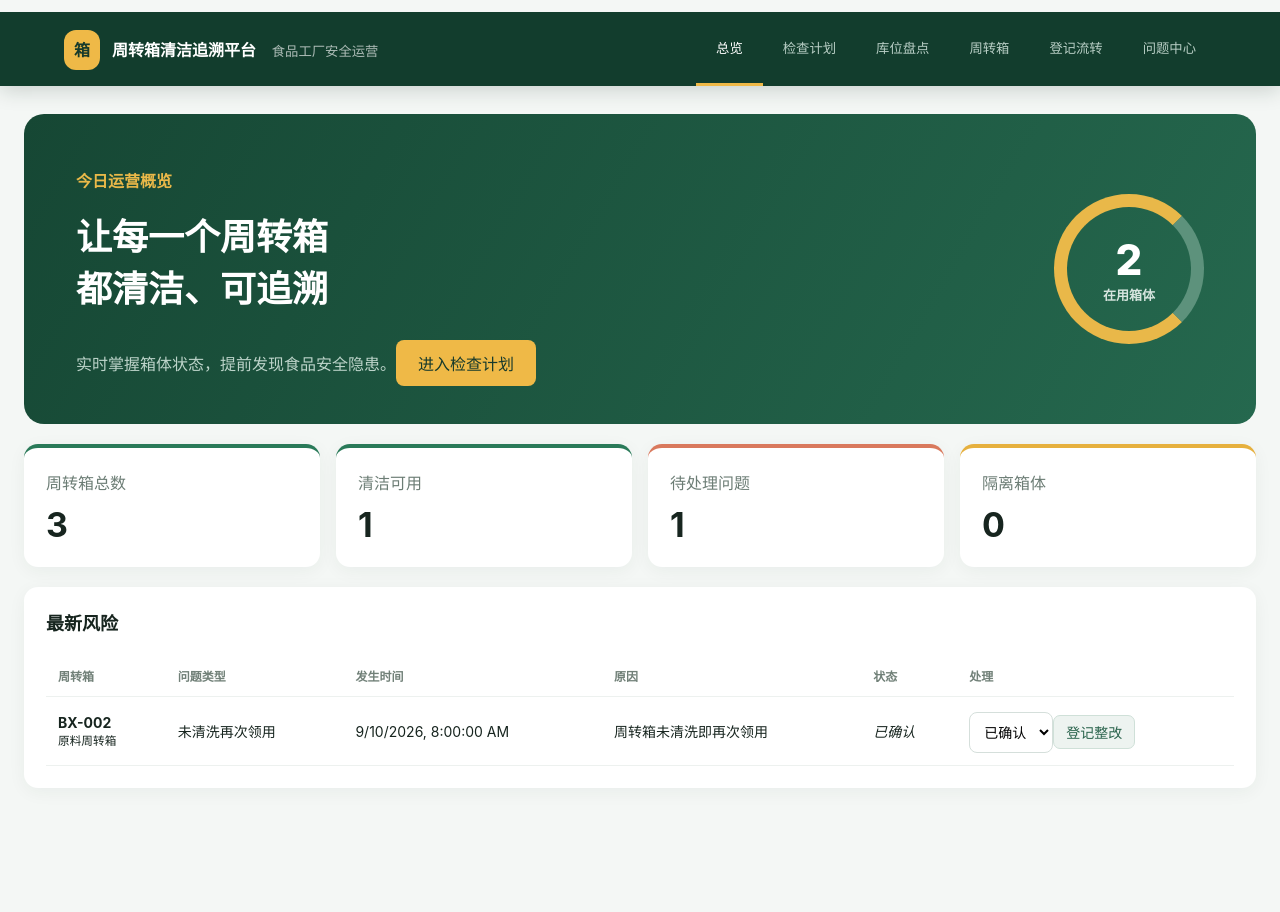
register rectification prefills wash, submits issue_id and returns to issue center closed
Expected: the text "周转箱总数" is shown, [46, 473, 126, 493]
Click the button "问题中心".
click(1169, 49)  # box [1123, 12, 1216, 86]
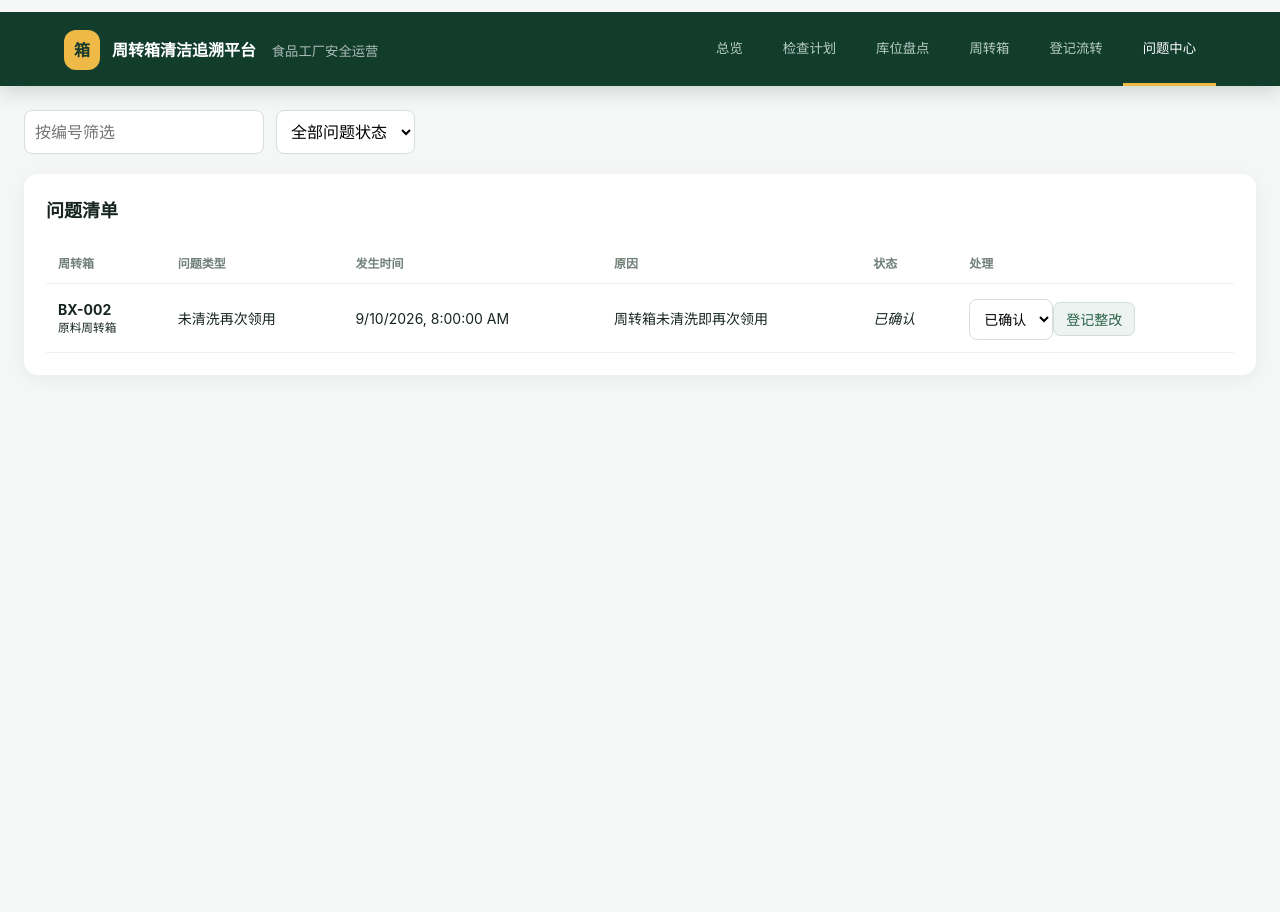
Expected: the text "BX-002" is shown, [58, 301, 111, 318]
Click the button "登记整改".
click(1094, 319)  # box [1053, 302, 1135, 336]
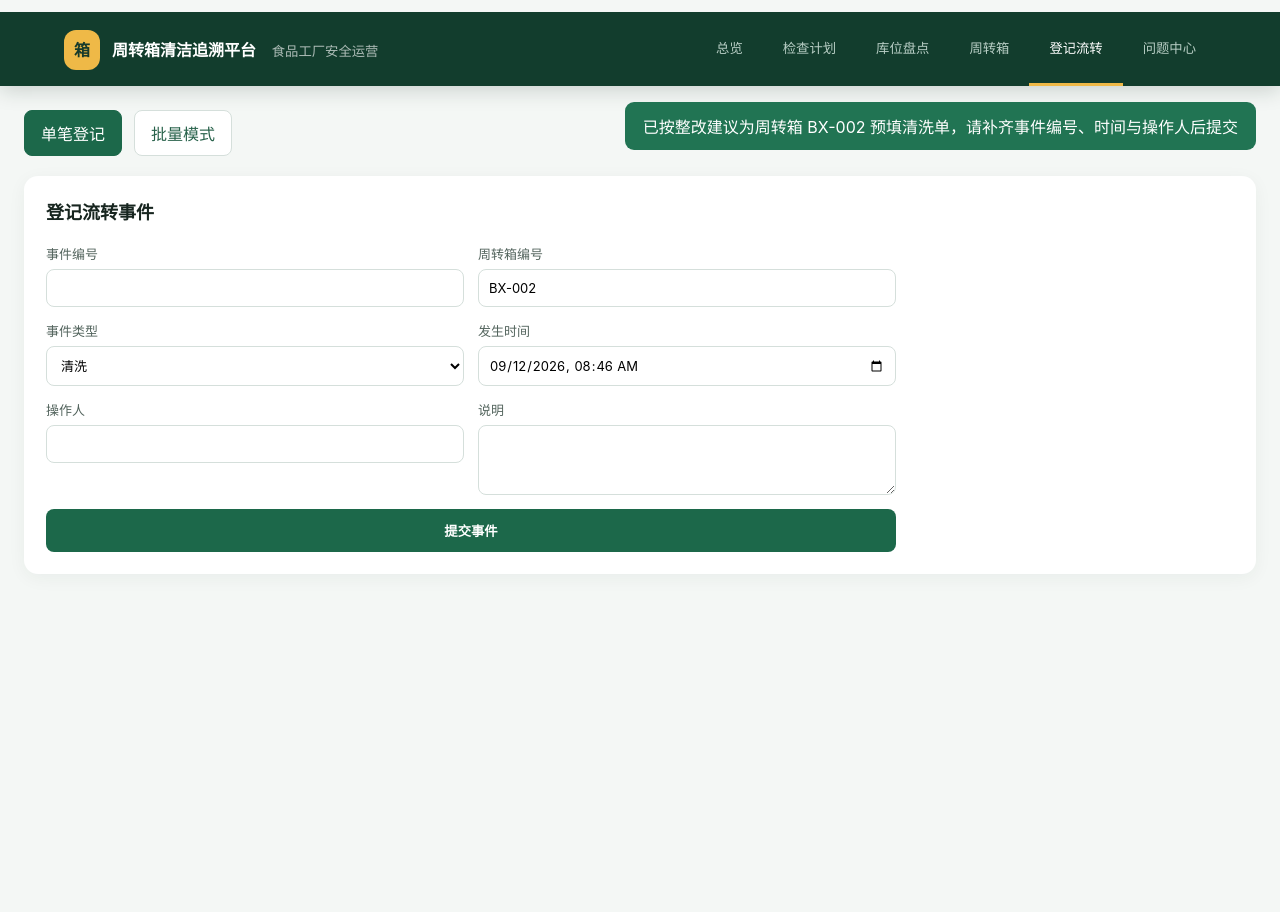
Expected: the text "已按整改建议为周转箱 BX-002 预填清洗单，请补齐事件编号、时间与操作人后提交" is shown, [625, 102, 1256, 150]
Expected: the field labelled "周转箱编号" holds "BX-002", [478, 269, 896, 307]
Expected: the dropdown labelled "事件类型" shows "清洗", [46, 346, 464, 386]
Type "EV-W-1" into the field labelled "事件编号".
click(255, 288); type("EV-W-1")  # box [46, 269, 464, 307]
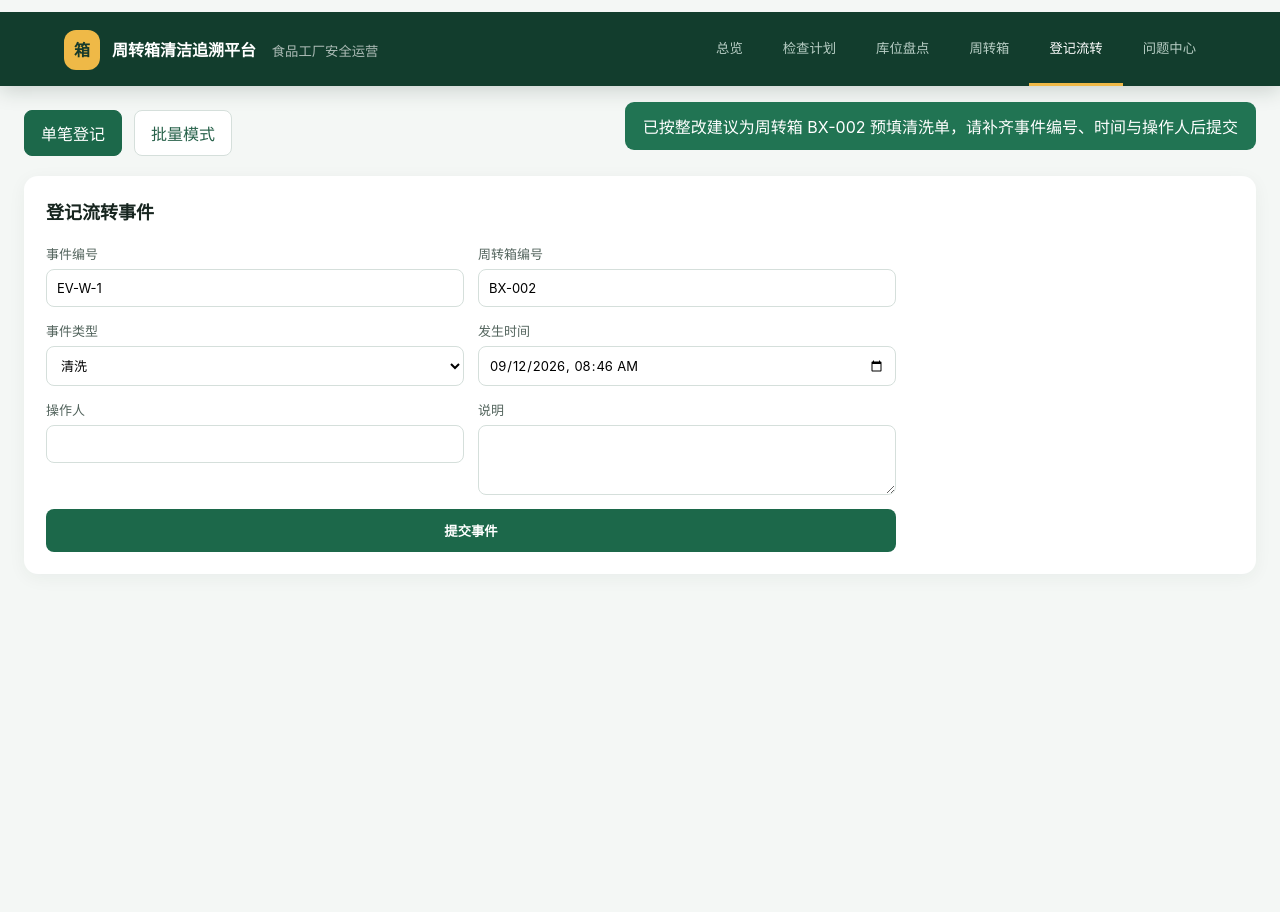
Replace the text in the field labelled "发生时间" with "2026-09-11T10:30" at (687, 366), box [478, 346, 896, 386]
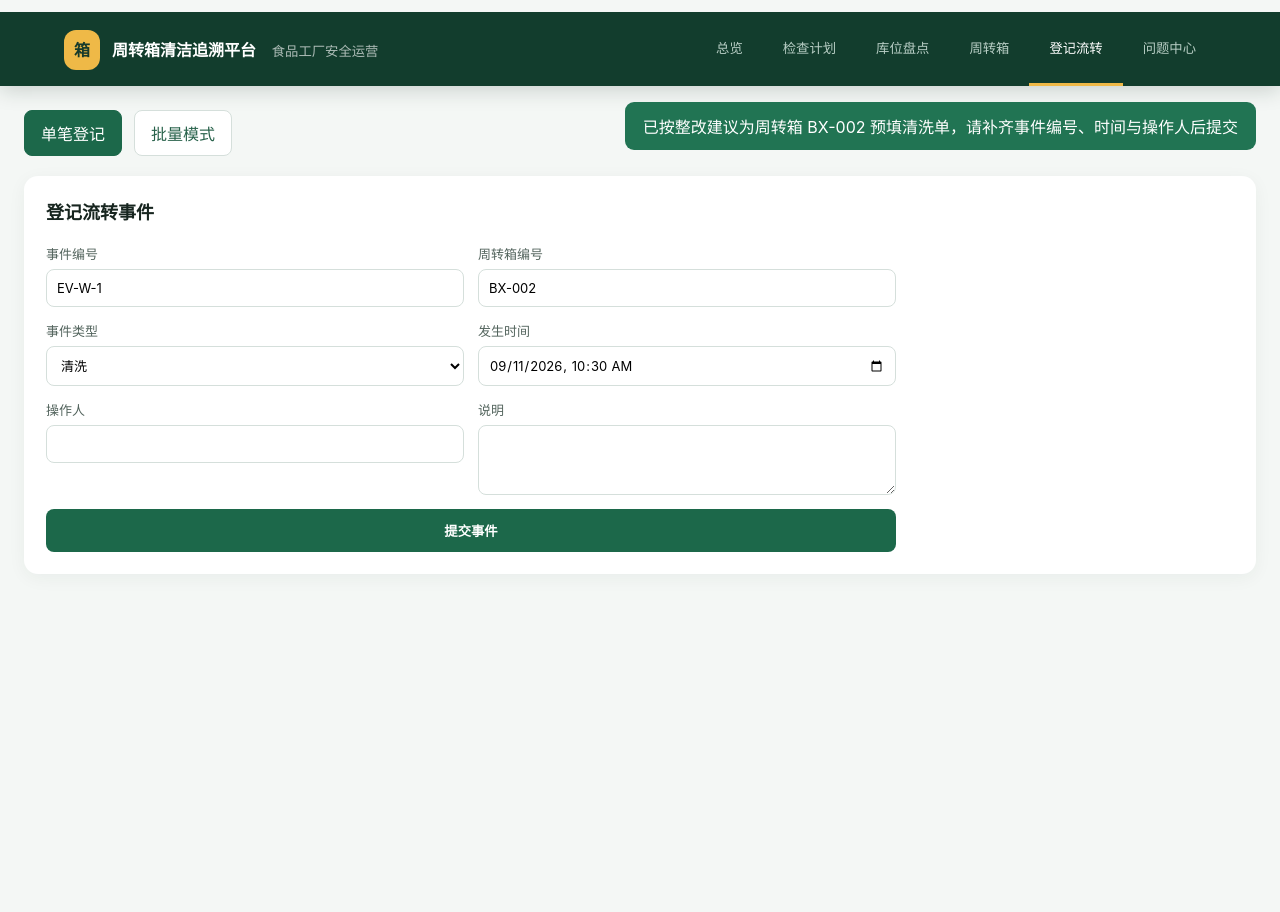
Type "王工" into the field labelled "操作人".
click(255, 444); type("王工")  # box [46, 425, 464, 463]
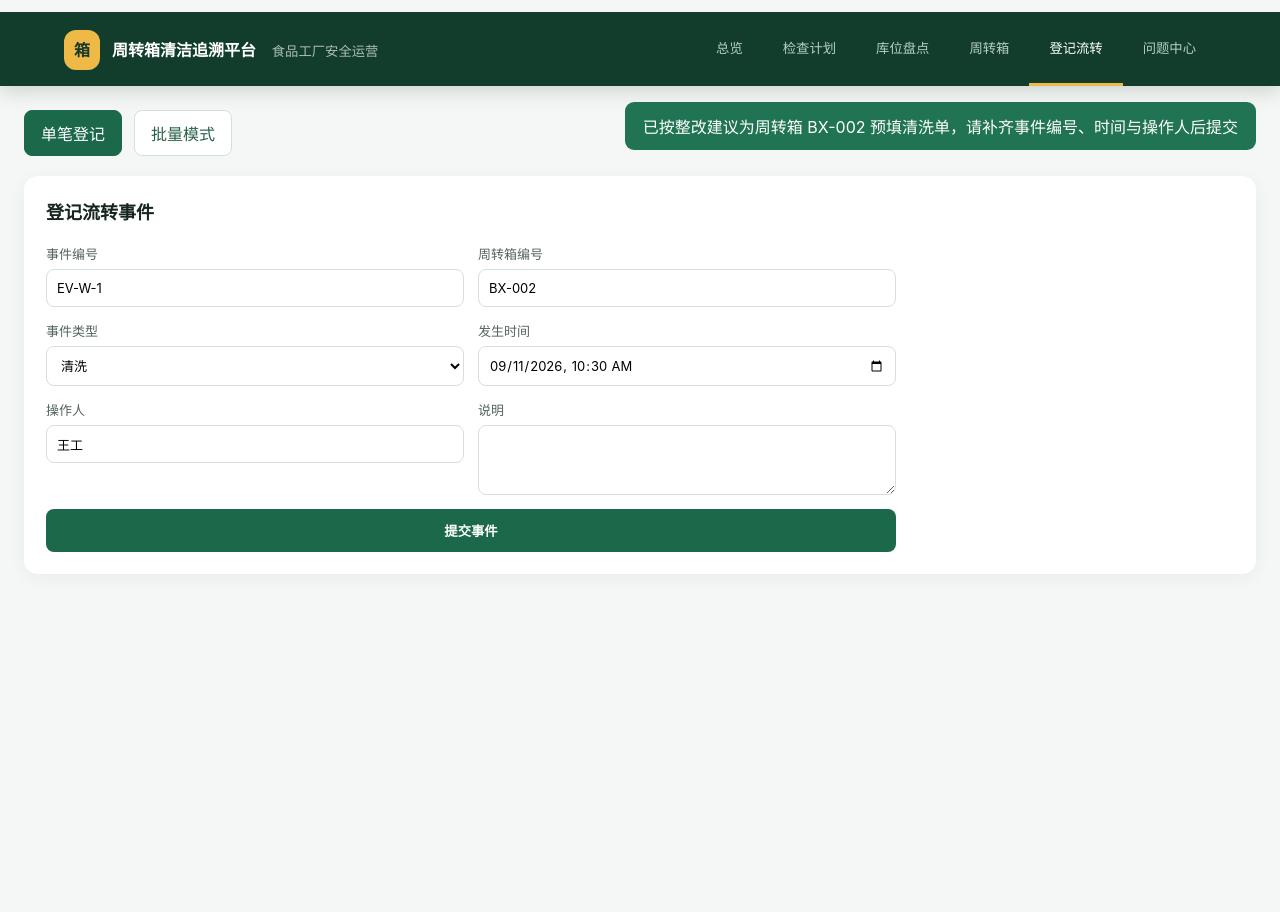
Click the button "提交事件".
click(471, 530)  # box [46, 509, 896, 552]
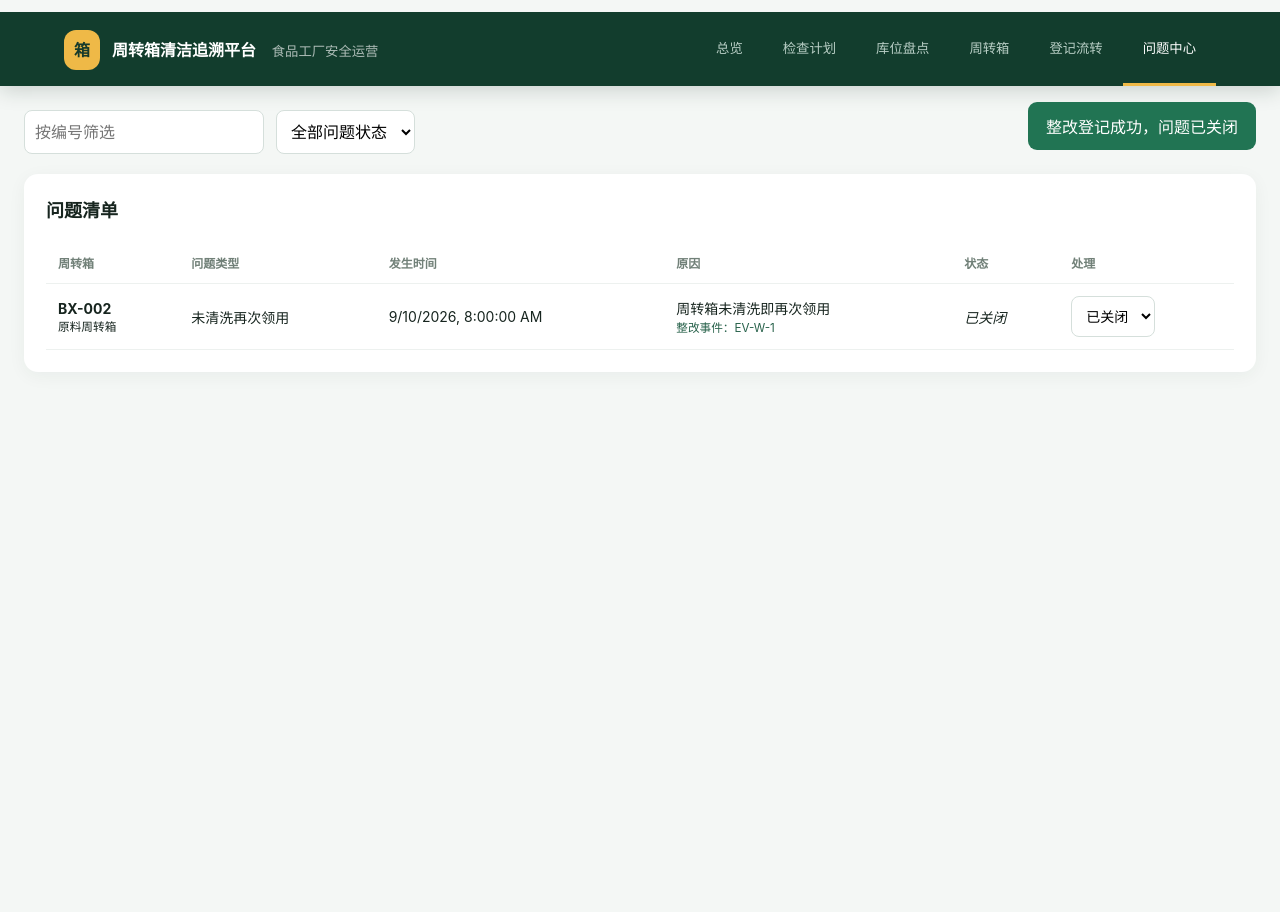
Expected: the text "整改登记成功，问题已关闭" is shown, [1028, 102, 1256, 150]
Expected: the text "整改事件：EV-W-1" is shown, [676, 321, 775, 335]
Expected: the heading "问题清单" is shown, [46, 200, 118, 221]
